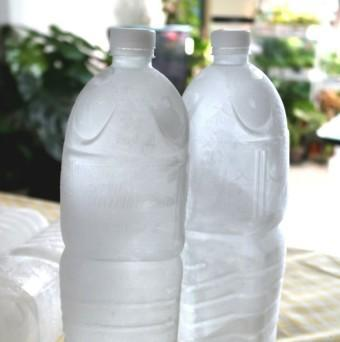bottle: (56, 25, 187, 342), (179, 30, 290, 340)
